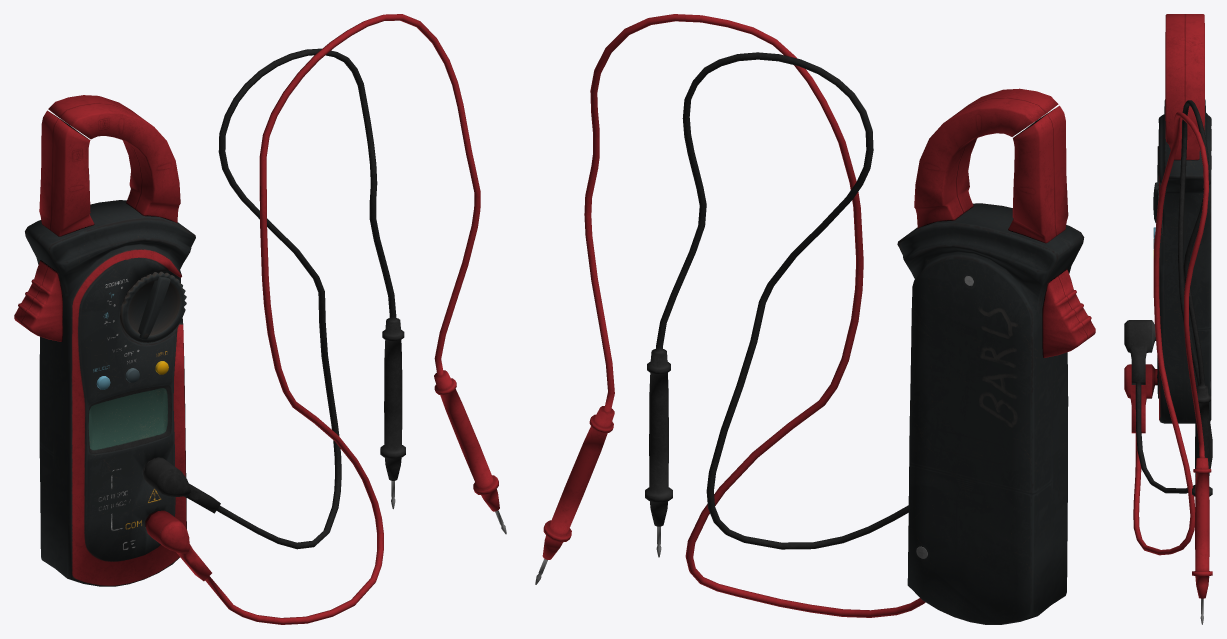
File: Ammater_L_F.fbx
The picture shows the model from 3 angles, left to right: view 1: azimuth 30°, elevation 25°; view 2: azimuth 150°, elevation 25°; view 3: azimuth 270°, elevation 25°; orthographic projection. The views are drawn at different scales.
Visible parts, largest first — view 1: Main1_L, Cable2_L, Cable1_L, Parts1_L, Parts2_L, Button1_L, Parts3_L; view 2: Main1_L, Cable2_L, Cable1_L, Parts1_L, Parts2_L, Parts3_L; view 3: Main1_L, Cable2_L, Cable1_L, Parts1_L, Button1_L.
Boxes of the visible parts, x1,y1,x2,y2 form: Main1_L: [25, 200, 195, 586]; Cable2_L: [145, 14, 506, 624]; Cable1_L: [143, 48, 405, 549]; Parts1_L: [48, 95, 180, 222]; Parts2_L: [39, 110, 94, 236]; Button1_L: [120, 271, 186, 342]; Parts3_L: [14, 260, 63, 341]; Main1_L: [897, 203, 1084, 624]; Cable2_L: [535, 14, 925, 617]; Cable1_L: [645, 52, 908, 557]; Parts1_L: [914, 88, 1058, 228]; Parts2_L: [1008, 105, 1068, 243]; Parts3_L: [1042, 268, 1095, 357]; Main1_L: [1157, 99, 1211, 423]; Cable2_L: [1124, 111, 1212, 624]; Cable1_L: [1124, 100, 1212, 496]; Parts1_L: [1165, 14, 1204, 160]; Button1_L: [1153, 180, 1162, 234].
Bounding box in the file's own units: 477 × 510 × 91.89.
